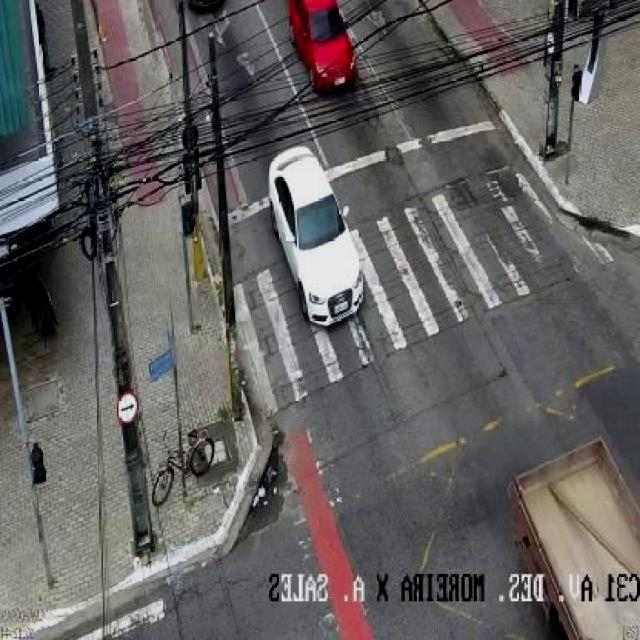Car: (266, 146, 366, 327), (285, 0, 361, 93)
Cycle: (151, 429, 216, 508)
Truck: (507, 434, 640, 640)
